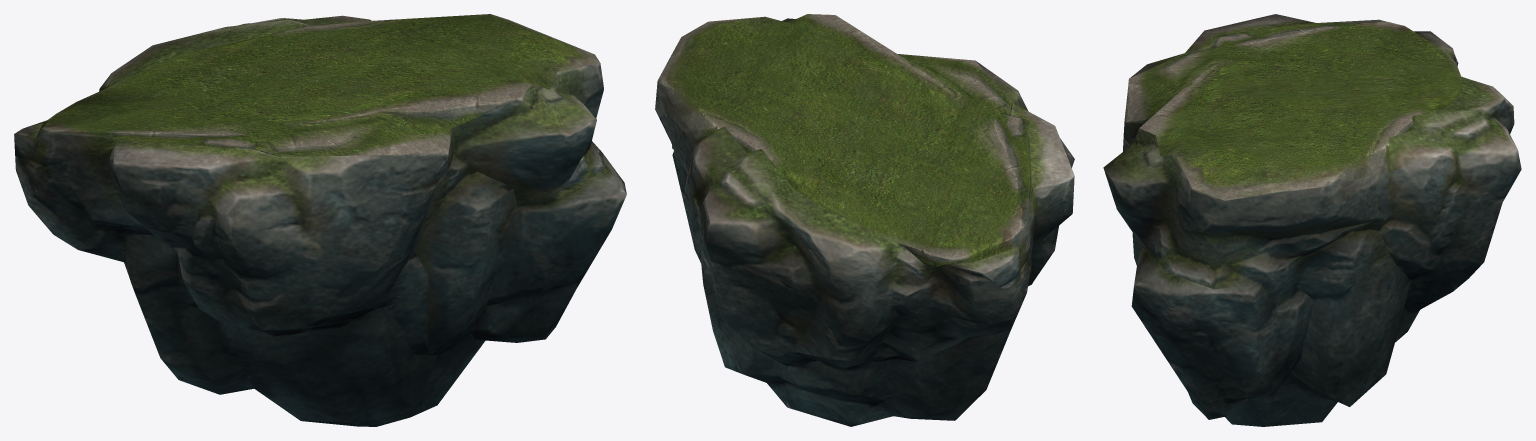
File: qys_jiebian02.FBX
3 views of the same model, side by side, from view 1: azimuth 30°, elevation 25°; view 2: azimuth 150°, elevation 25°; view 3: azimuth 270°, elevation 25° (orthographic). The views are drawn at different scales.
Parts seen in each view (by area): view 1: objObject027, objObject028; view 2: objObject027, objObject028; view 3: objObject027, objObject028.
Part boxes in pixels (x1,y1,x2,y2): objObject027: (14,15,626,426); objObject028: (36,14,599,156); objObject027: (655,18,1074,426); objObject028: (657,14,1031,269); objObject027: (1103,14,1521,426); objObject028: (1124,19,1462,200).
Bounding box in the file's own units: 2701 × 1930 × 2239.
